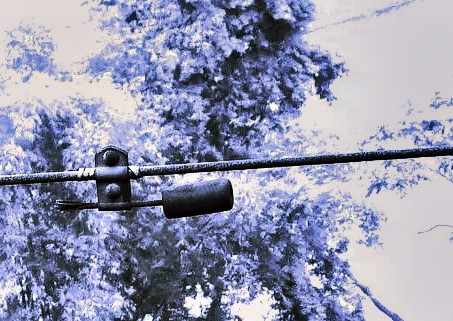Damage of shockproof hammer: (39, 139, 241, 221)
